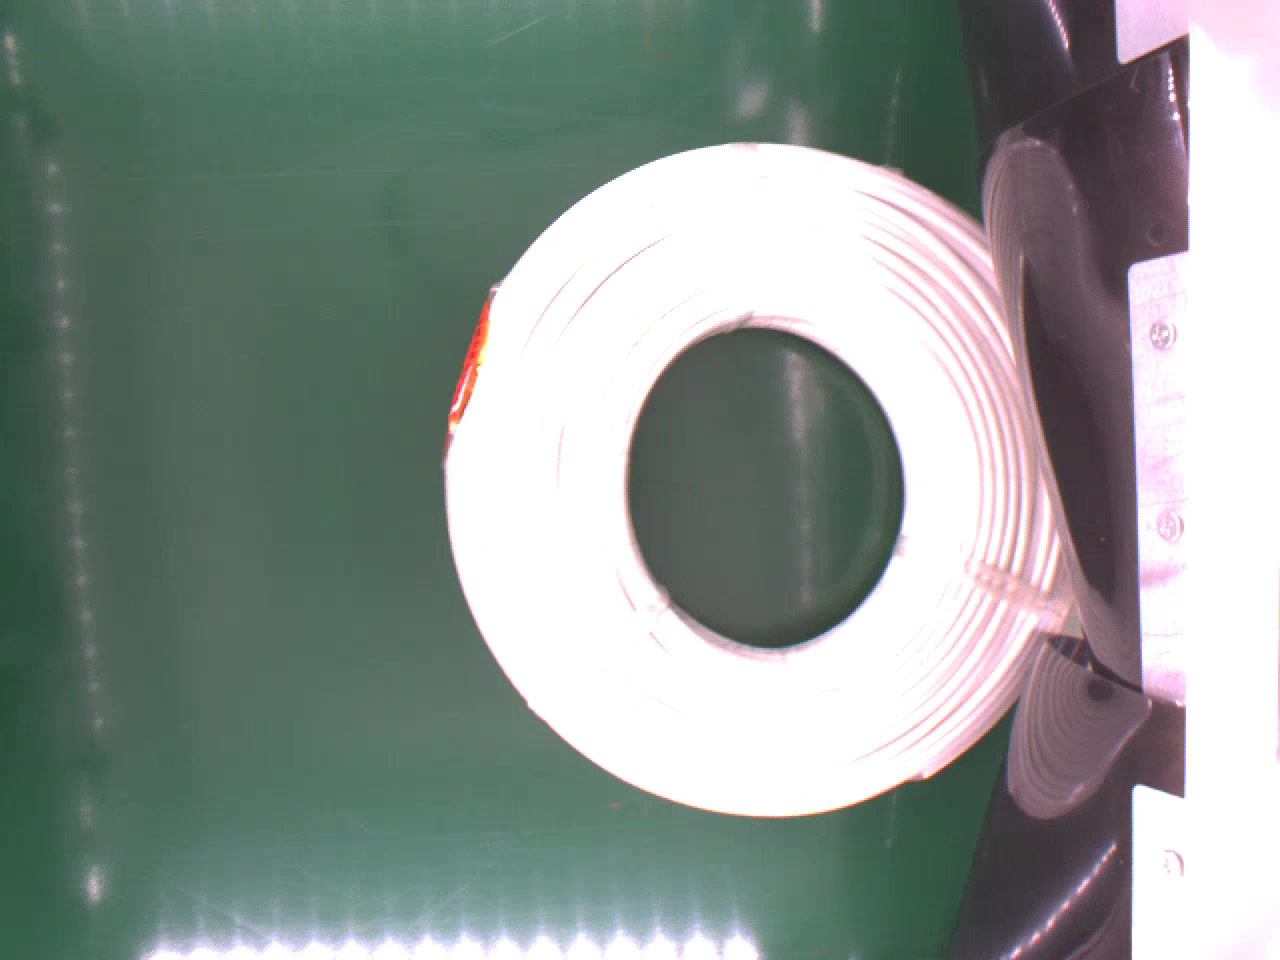white: (442, 139, 1070, 826)
